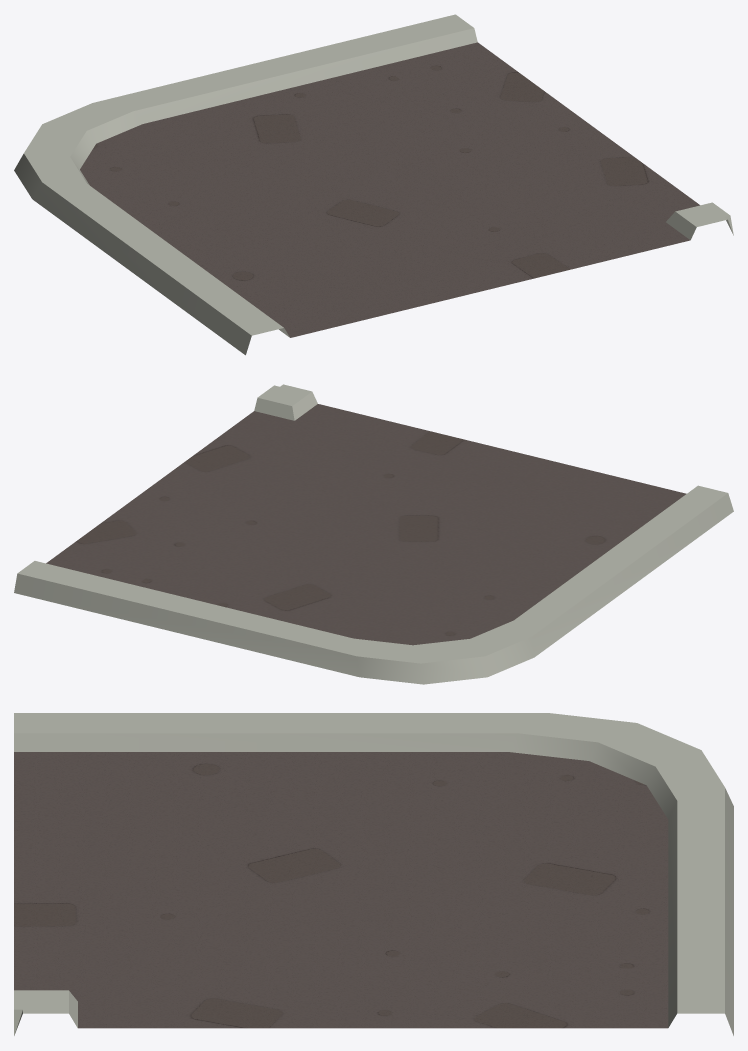
The model's file is ParkRoad_4_C.glb.
3 views of the same model, one above another, from view 1: azimuth 30°, elevation 25°; view 2: azimuth 150°, elevation 25°; view 3: azimuth 270°, elevation 25° (orthographic). The views are drawn at different scales.
Parts seen in each view (by area): view 1: ParkRoad_4_C; view 2: ParkRoad_4_C; view 3: ParkRoad_4_C.
Boxes of the visible parts, x1,y1,x2,y2 form: ParkRoad_4_C: [14, 14, 733, 355]; ParkRoad_4_C: [14, 384, 733, 684]; ParkRoad_4_C: [14, 713, 733, 1035].
Size of the model in its own units: 2 by 0.0716 by 2.
2 materials, 2 textured.
